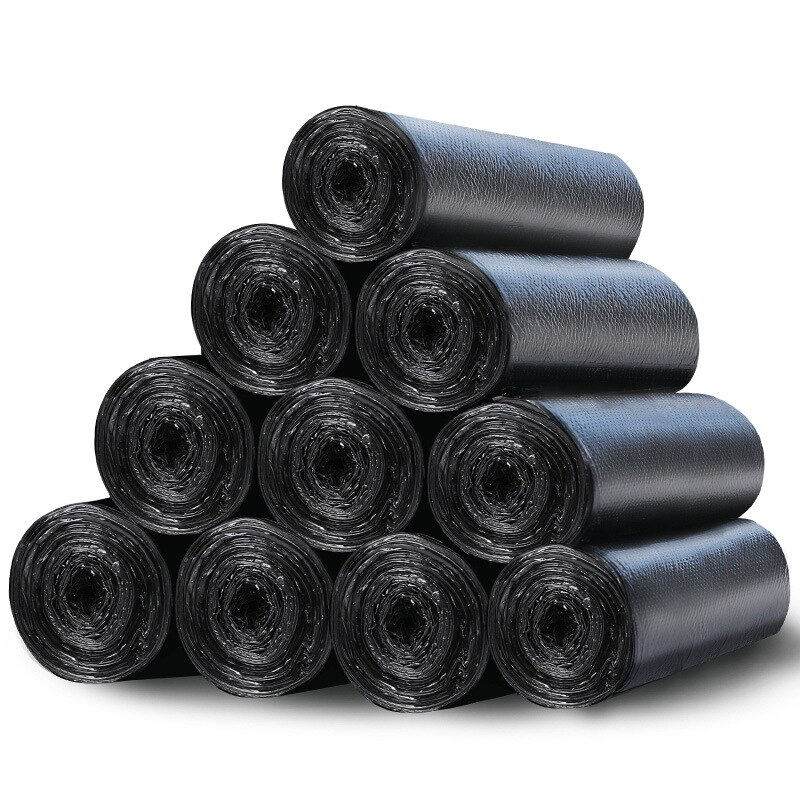plastic_bagwdw: (250, 27, 718, 322), (341, 183, 725, 461), (401, 335, 797, 597), (462, 497, 800, 739), (58, 287, 293, 587), (289, 450, 501, 745), (149, 479, 341, 800), (2, 444, 184, 754), (174, 152, 366, 421), (242, 324, 436, 578)
